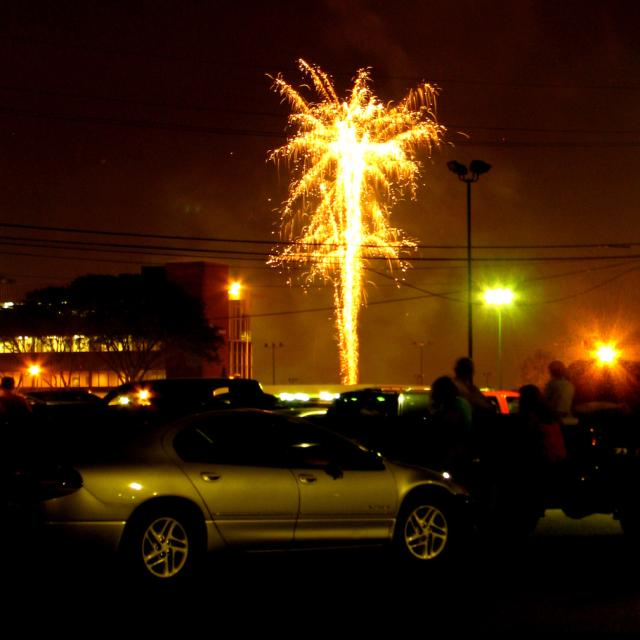car: (83, 399, 473, 581)
